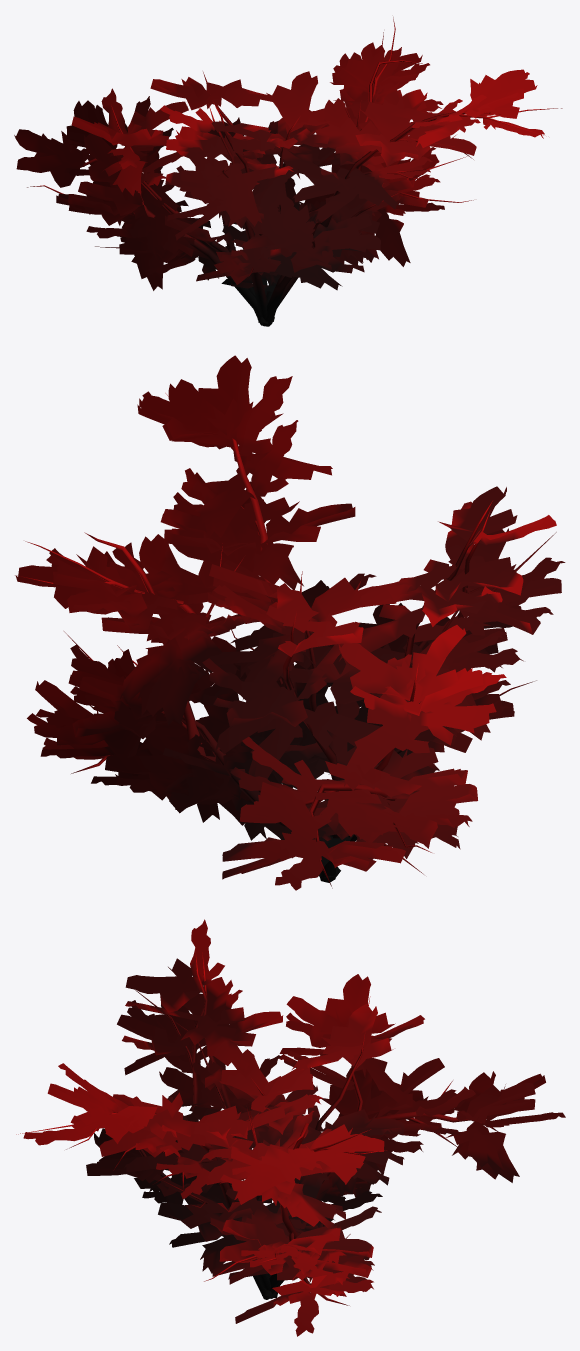
File: SM_bush_03.FBX
The picture shows the model from 3 angles, top to bottom: view 1: azimuth 30°, elevation 25°; view 2: azimuth 150°, elevation 25°; view 3: azimuth 270°, elevation 25°; orthographic projection. The views are drawn at different scales.
Parts seen in each view (by area): view 1: SM_bush_03_LOD0; view 2: SM_bush_03_LOD0; view 3: SM_bush_03_LOD0.
Part boxes in pixels (left/top/right/bottom): SM_bush_03_LOD0: left=14, top=17, right=562, bottom=326; SM_bush_03_LOD0: left=15, top=355, right=565, bottom=890; SM_bush_03_LOD0: left=16, top=919, right=565, bottom=1336.
Size of the model in its own units: 166 by 191 by 118.
